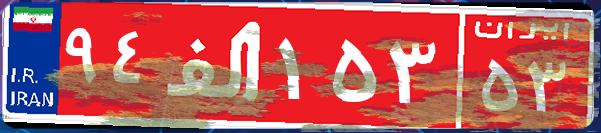1: (273, 28, 330, 110)
3: (385, 28, 445, 110), (525, 38, 570, 115)
4: (110, 28, 158, 105)
5: (330, 28, 385, 110), (475, 38, 525, 113)
9: (57, 26, 110, 107)
الف: (158, 15, 273, 115)
